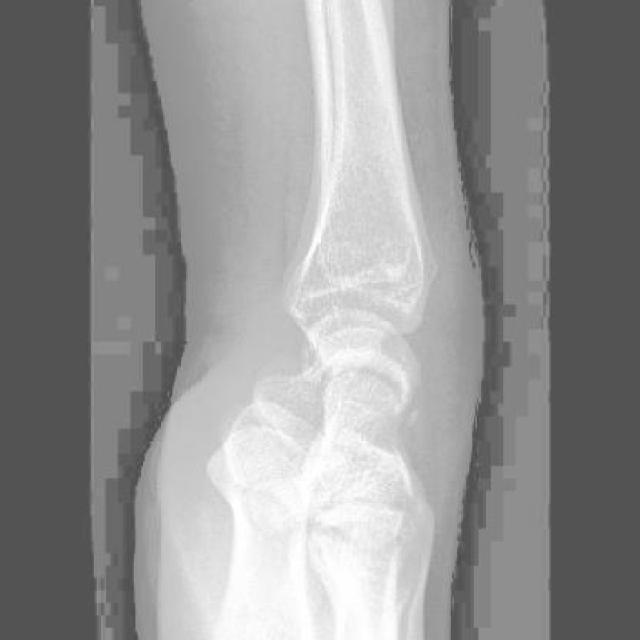Fracture: (391, 400, 425, 433)
